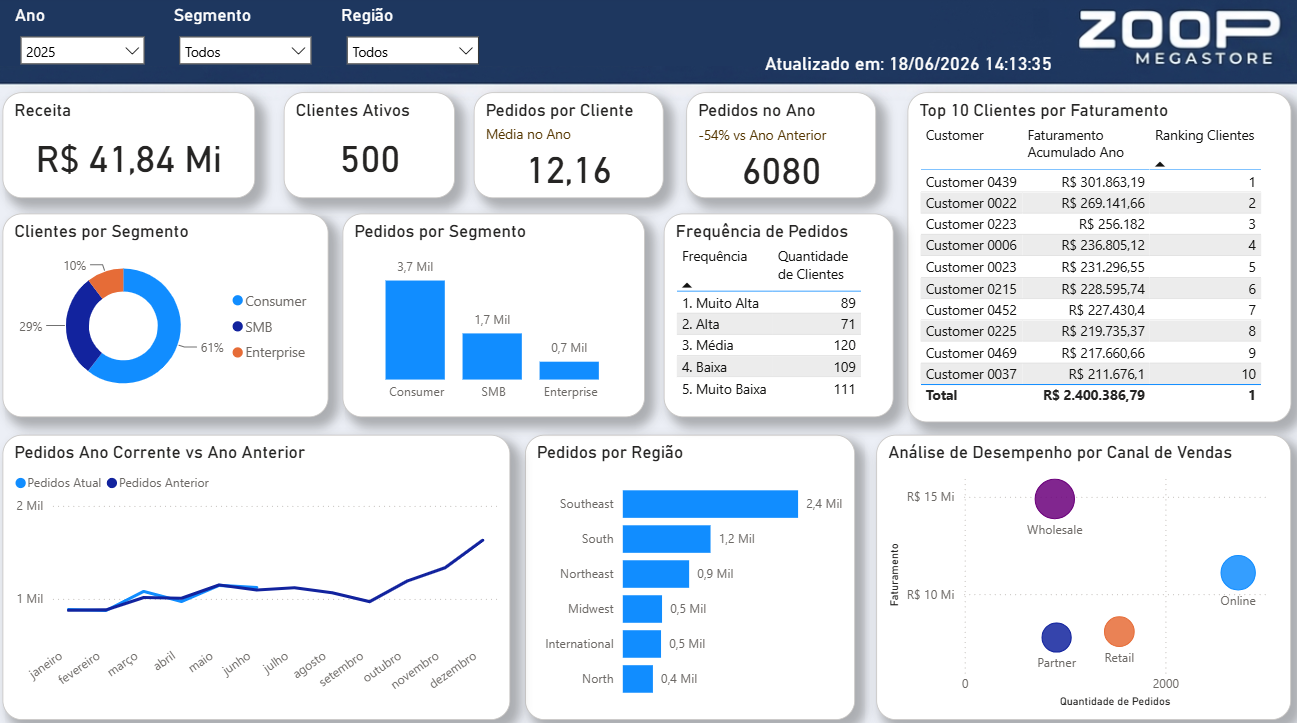

Layout of this report page (visuals, bound fields, positions):
{"tool":"powerbi","page":{"name":"Painel Clientes","canvas":[1280,720],"ordinal":1},"visuals":[{"type":"slicer","title":"Região","fields":{"Values":["DimCustomer.Region"]},"box":[335,8.2,149.7,72.4],"z":0},{"type":"slicer","title":"Segmento","fields":{"Values":["DimCustomer.Segment"]},"box":[171.2,8.8,149.7,71.2],"z":1000},{"type":"slicer","title":"Ano","fields":{"Values":["dCalendario.Date.Variation.Hierarquia de datas.Ano"]},"box":[14.7,8.8,142.3,71.2],"z":2000},{"type":"card","fields":{"Values":["Medidas.Atualizado em"]},"box":[749.7,39.3,294.5,55.2],"z":3000},{"type":"tableEx","title":"Top 10 Clientes por Faturamento","fields":{"Values":["DimCustomer.Customer","Medidas.Faturamento Acumulado Ano","Medidas.Ranking Clientes"]},"box":[895.7,94.5,376.7,323.9],"z":4000},{"type":"card","title":"Receita","fields":{"Values":["Medidas.Total de Vendas"]},"box":[7.4,94.5,247.9,104.3],"z":5000},{"type":"card","title":"Clientes Ativos","fields":{"Values":["Medidas.Clientes Ativos"]},"box":[283.4,95,168.1,104.3],"z":6000},{"type":"card","title":"Pedidos por Cliente","fields":{"Values":["Medidas.Pedidos por Clientes"]},"box":[469.9,95,186.5,104.3],"z":7000},{"type":"donutChart","title":"Clientes por Segmento","fields":{"Category":["DimCustomer.Segment"],"Y":["CountNonNull(DimCustomer.Segment)"]},"box":[7.4,213.7,320.2,200],"z":8000},{"type":"clusteredBarChart","title":"Pedidos por Região","fields":{"Category":["DimCustomer.Region"],"Y":["CountNonNull(FactSales.SaleID)"]},"box":[520.2,430.7,323.9,279.8],"z":9000},{"type":"clusteredColumnChart","title":"Pedidos por Segmento","fields":{"Category":["DimCustomer.Segment"],"Y":["CountNonNull(FactSales.SaleID)"]},"box":[341.1,213.7,296.9,200],"z":10000},{"type":"lineChart","title":"Pedidos Ano Corrente vs Ano Anterior","fields":{"Category":["dCalendario.Date.Variation.Hierarquia de datas.Ano","dCalendario.Date.Variation.Hierarquia de datas.Mês","dCalendario.Date.Variation.Hierarquia de datas.Trimestre"],"Y":["Medidas.Pedidos Atual","Medidas.Pedidos Anterior"]},"box":[7.4,430.7,498.2,279.8],"z":11000},{"type":"card","title":"Pedidos no Ano","fields":{"Values":["CountNonNull(FactSales.SaleID)"]},"box":[678.5,95,186.5,104.3],"z":12000},{"type":"tableEx","title":"Frequência de Pedidos","fields":{"Values":["Quintis.Quintil","Medidas.Clientes por Quintil"]},"box":[656.4,213.7,225.8,200],"z":13000},{"type":"scatterChart","title":"Análise de Desempenho por Canal de Vendas","fields":{"Series":["DimChannel.Channel"],"Size":["Medidas.Faturamento Acumulado Ano"],"X":["Medidas.Pedidos Atual"],"Y":["Medidas.Faturamento Acumulado Ano"]},"box":[865,430.7,407.4,279.8],"z":14000}]}

Visuals, with their boxes in screenshot pixels (x1, y1, x2, y2), scaled from the page's 1280x720 canvas onto the 1297x723 screenshot:
"Região" slicer: BBox(339, 8, 491, 81)
"Segmento" slicer: BBox(173, 9, 325, 80)
"Ano" slicer: BBox(15, 9, 159, 80)
card - Medidas.Atualizado em: BBox(760, 39, 1058, 95)
"Top 10 Clientes por Faturamento" tableEx: BBox(908, 95, 1289, 420)
"Receita" card: BBox(7, 95, 259, 200)
"Clientes Ativos" card: BBox(287, 95, 457, 200)
"Pedidos por Cliente" card: BBox(476, 95, 665, 200)
"Clientes por Segmento" donutChart: BBox(7, 215, 332, 415)
"Pedidos por Região" clusteredBarChart: BBox(527, 432, 855, 713)
"Pedidos por Segmento" clusteredColumnChart: BBox(346, 215, 646, 415)
"Pedidos Ano Corrente vs Ano Anterior" lineChart: BBox(7, 432, 512, 713)
"Pedidos no Ano" card: BBox(688, 95, 876, 200)
"Frequência de Pedidos" tableEx: BBox(665, 215, 894, 415)
"Análise de Desempenho por Canal de Vendas" scatterChart: BBox(876, 432, 1289, 713)
